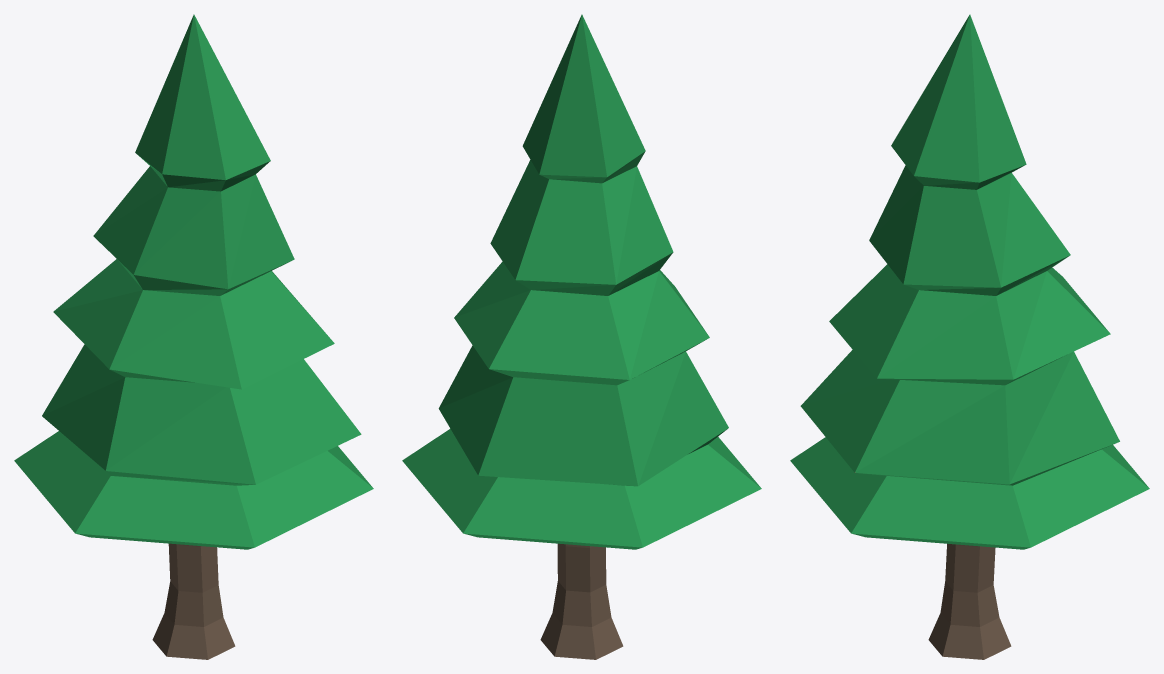
File: Pinetree_01.fbx
The picture shows the model from 3 angles, left to right: view 1: azimuth 30°, elevation 25°; view 2: azimuth 150°, elevation 25°; view 3: azimuth 270°, elevation 25°; orthographic projection.
Visible parts, largest first — view 1: Pine_tree_01; view 2: Pine_tree_01; view 3: Pine_tree_01.
Boxes of the visible parts, left/top/right/bottom form: Pine_tree_01: left=14, top=14, right=373, bottom=659; Pine_tree_01: left=402, top=14, right=761, bottom=659; Pine_tree_01: left=790, top=14, right=1149, bottom=659.
Size of the model in its own units: 2.88 by 5.8 by 3.01.
Materials: 1 (1 with a texture image).
